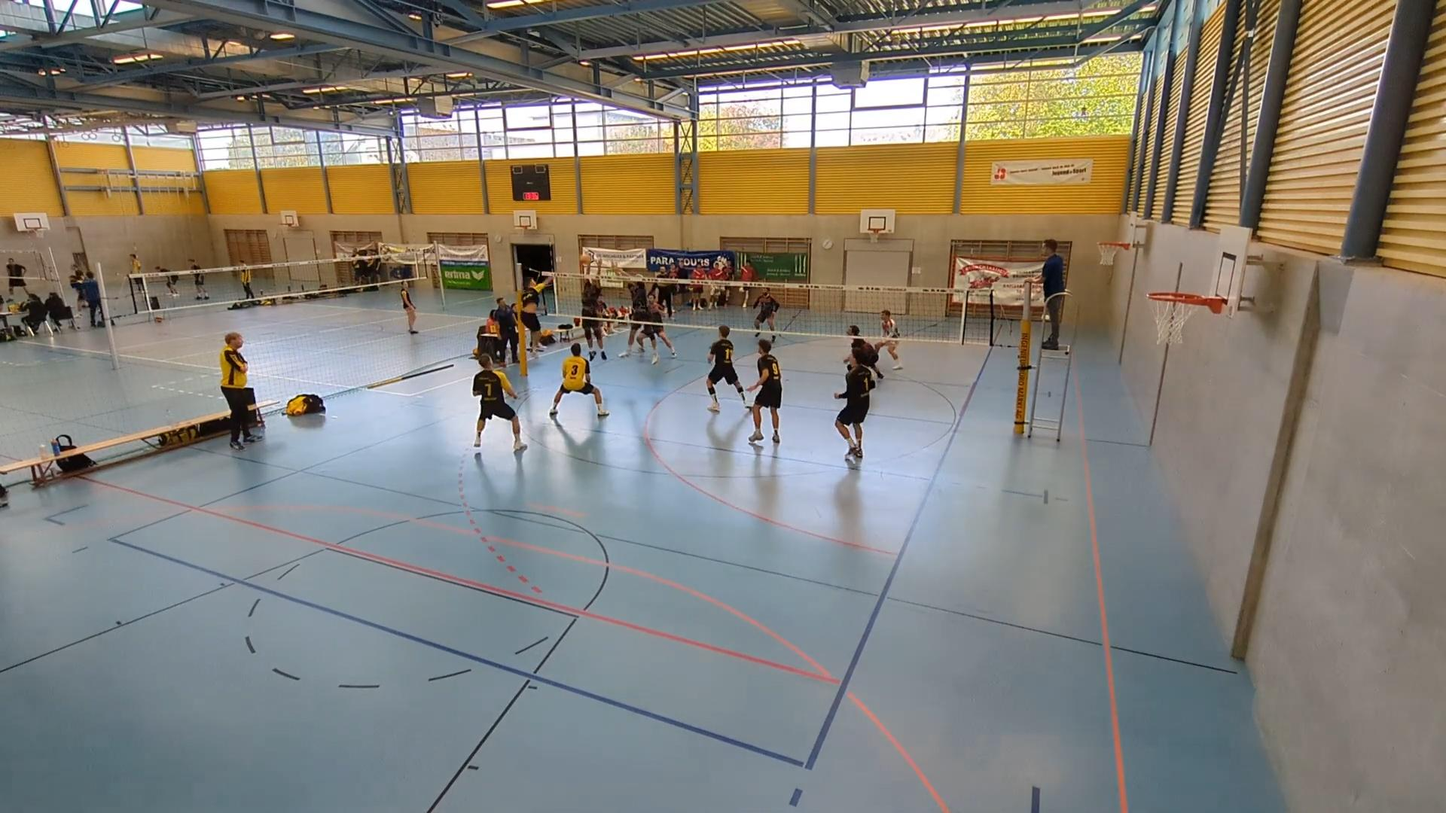Attack: (519, 269, 558, 361)
Block: (611, 257, 664, 368), (572, 251, 613, 368)
Player: (472, 355, 526, 452), (549, 343, 609, 417), (834, 349, 874, 459), (706, 325, 747, 412), (748, 340, 781, 443), (845, 325, 883, 379), (876, 309, 903, 370), (755, 289, 779, 340)
ball: (577, 250, 596, 267)
